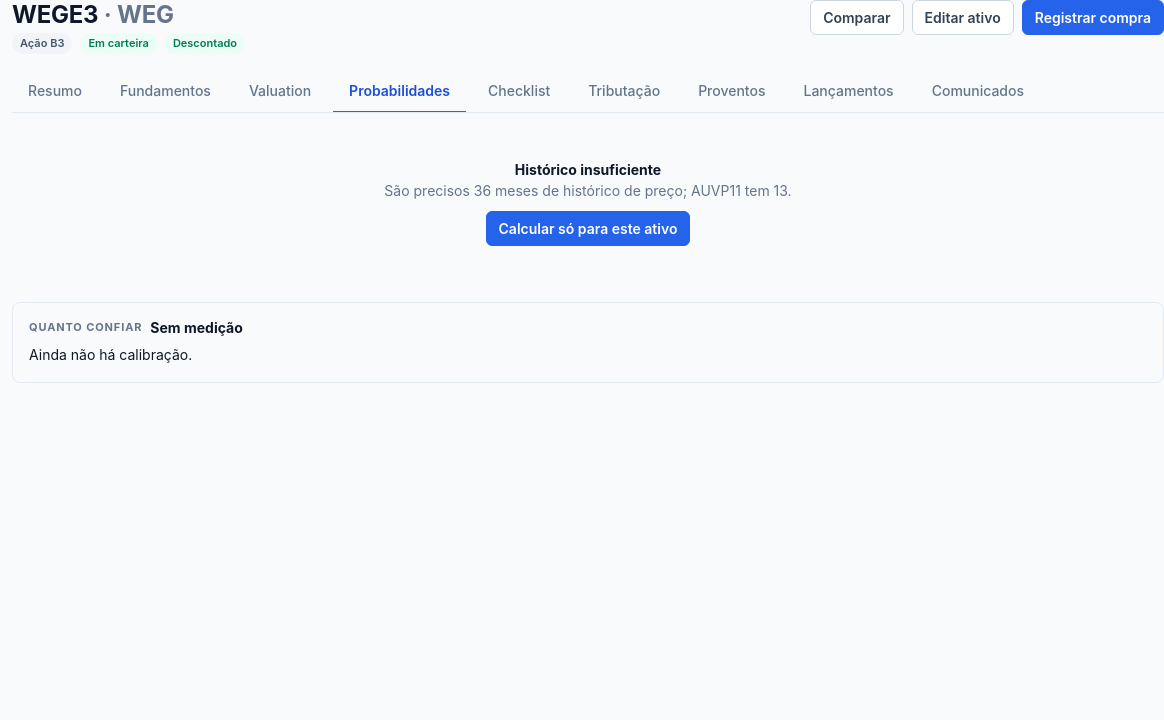
Scenario: Probabilidades tab (Phase 42.1) › computes the forecast of this asset alone and shows the cautions
This screenshot has width=1164, height=720.
Expected: the text "Histórico insuficiente" is shown, [515,160,661,178]
Click the button "Calcular só para este ativo": click(588, 228) [486,210,690,246]
(page scrolled)
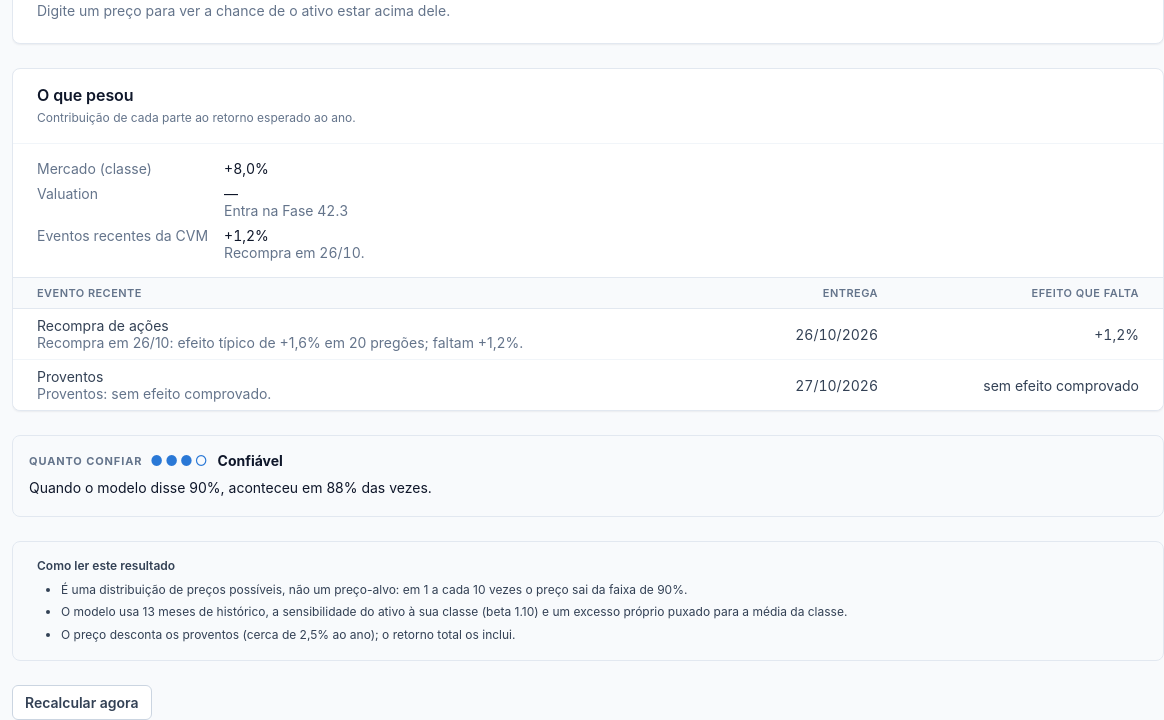
Now the button "Recalcular agora" is shown, box [12,685,152,719]
